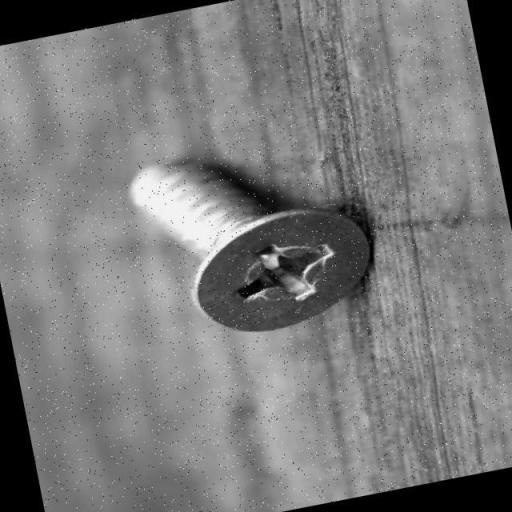Phillips: (185, 189, 372, 345)
